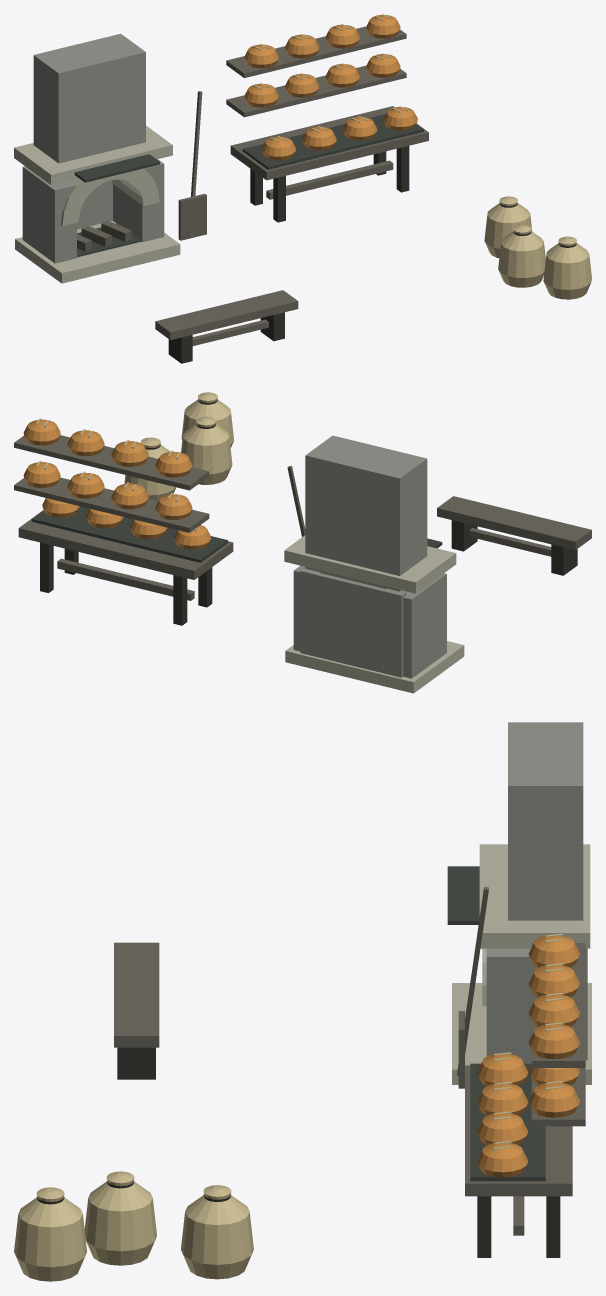
The model's file is village_bakery_artifacts.glb.
3 renders of one model, top to bottom at view 1: azimuth 30°, elevation 25°; view 2: azimuth 150°, elevation 25°; view 3: azimuth 270°, elevation 25°, orthographic. The views are drawn at different scales.
Visible parts, largest first — view 1: village_bakery_artifacts; view 2: village_bakery_artifacts; view 3: village_bakery_artifacts.
Part boxes in pixels (x1,y1,x2,y2): village_bakery_artifacts: [14, 14, 591, 363]; village_bakery_artifacts: [14, 392, 591, 693]; village_bakery_artifacts: [14, 722, 591, 1281].
Size of the model in its own units: 6.37 by 2.95 by 5.37.
